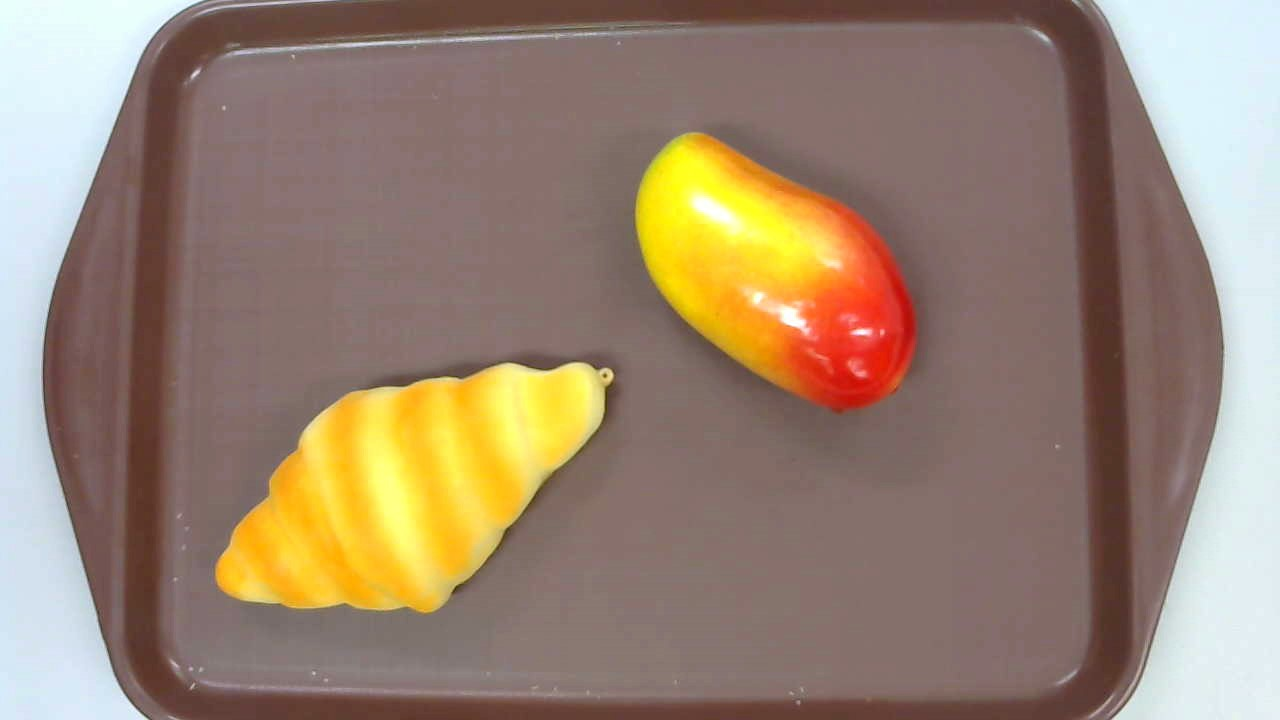croissant: (214, 359, 613, 615)
red mango: (634, 132, 920, 416)
